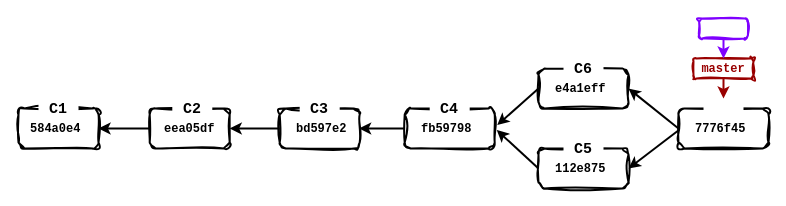
Some shapes in this 786 by 206 pixel diagram are drawn without their labels. The shapes that lost their labels are listed below. From the top down, each one's box as (x1, y1, x2, y2) in pixels, then its label:
(698, 17, 748, 39): HEAD
(703, 98, 743, 118): C7
